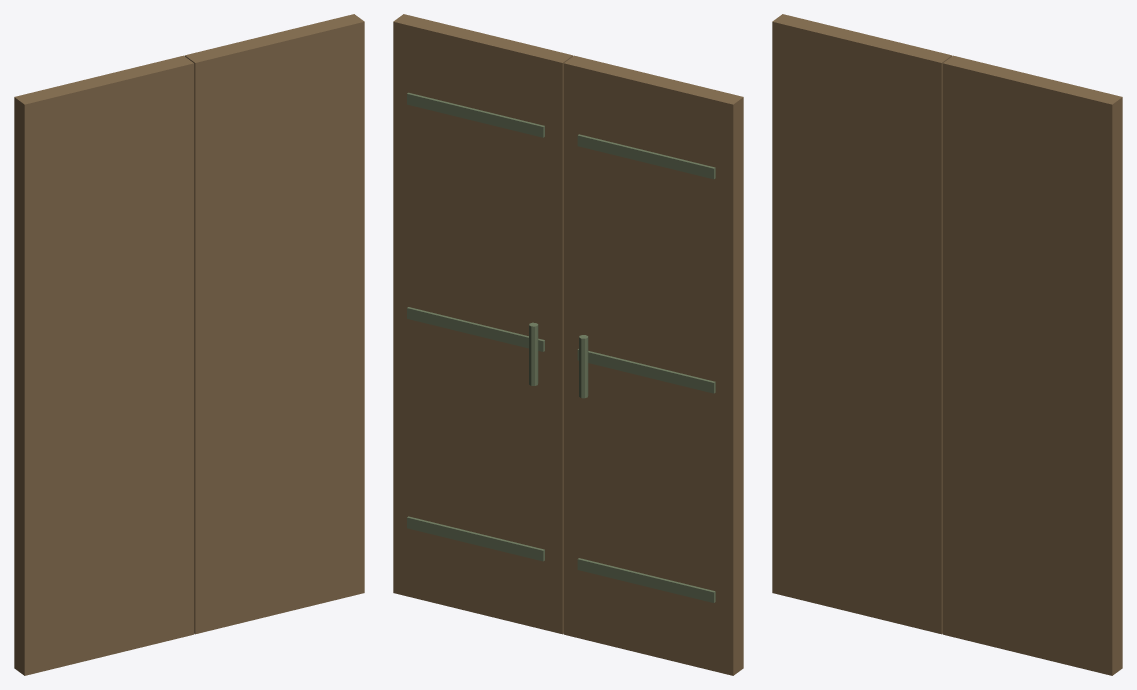
Rendered from SAG_final_doors.glb.
3 renders of one model, left to right at view 1: azimuth 30°, elevation 25°; view 2: azimuth 150°, elevation 25°; view 3: azimuth 330°, elevation 25°, orthographic.
Parts seen in each view (by area): view 1: SAG_DYN_FinalDoor_001_ACADE.003, SAG_DYN_FinalDoor_002_ACADE.003; view 2: SAG_DYN_FinalDoor_001_ACADE.003, SAG_DYN_FinalDoor_002_ACADE.003, SAG_DYN_DoorHardware_001_ACADE.003, SAG_DYN_DoorHardware_002_ACADE.003; view 3: SAG_DYN_FinalDoor_002_ACADE.003, SAG_DYN_FinalDoor_001_ACADE.003.
Part boxes in pixels (x1=…): SAG_DYN_FinalDoor_001_ACADE.003: x1=14, y1=55, x2=194, y2=675; SAG_DYN_FinalDoor_002_ACADE.003: x1=184, y1=14, x2=364, y2=634; SAG_DYN_FinalDoor_001_ACADE.003: x1=563, y1=55, x2=743, y2=675; SAG_DYN_FinalDoor_002_ACADE.003: x1=393, y1=14, x2=573, y2=634; SAG_DYN_DoorHardware_001_ACADE.003: x1=577, y1=134, x2=715, y2=602; SAG_DYN_DoorHardware_002_ACADE.003: x1=407, y1=92, x2=544, y2=561; SAG_DYN_FinalDoor_002_ACADE.003: x1=942, y1=55, x2=1122, y2=675; SAG_DYN_FinalDoor_001_ACADE.003: x1=772, y1=14, x2=952, y2=634.
Size of the model in its own units: 1.5 by 2.4 by 0.133.
